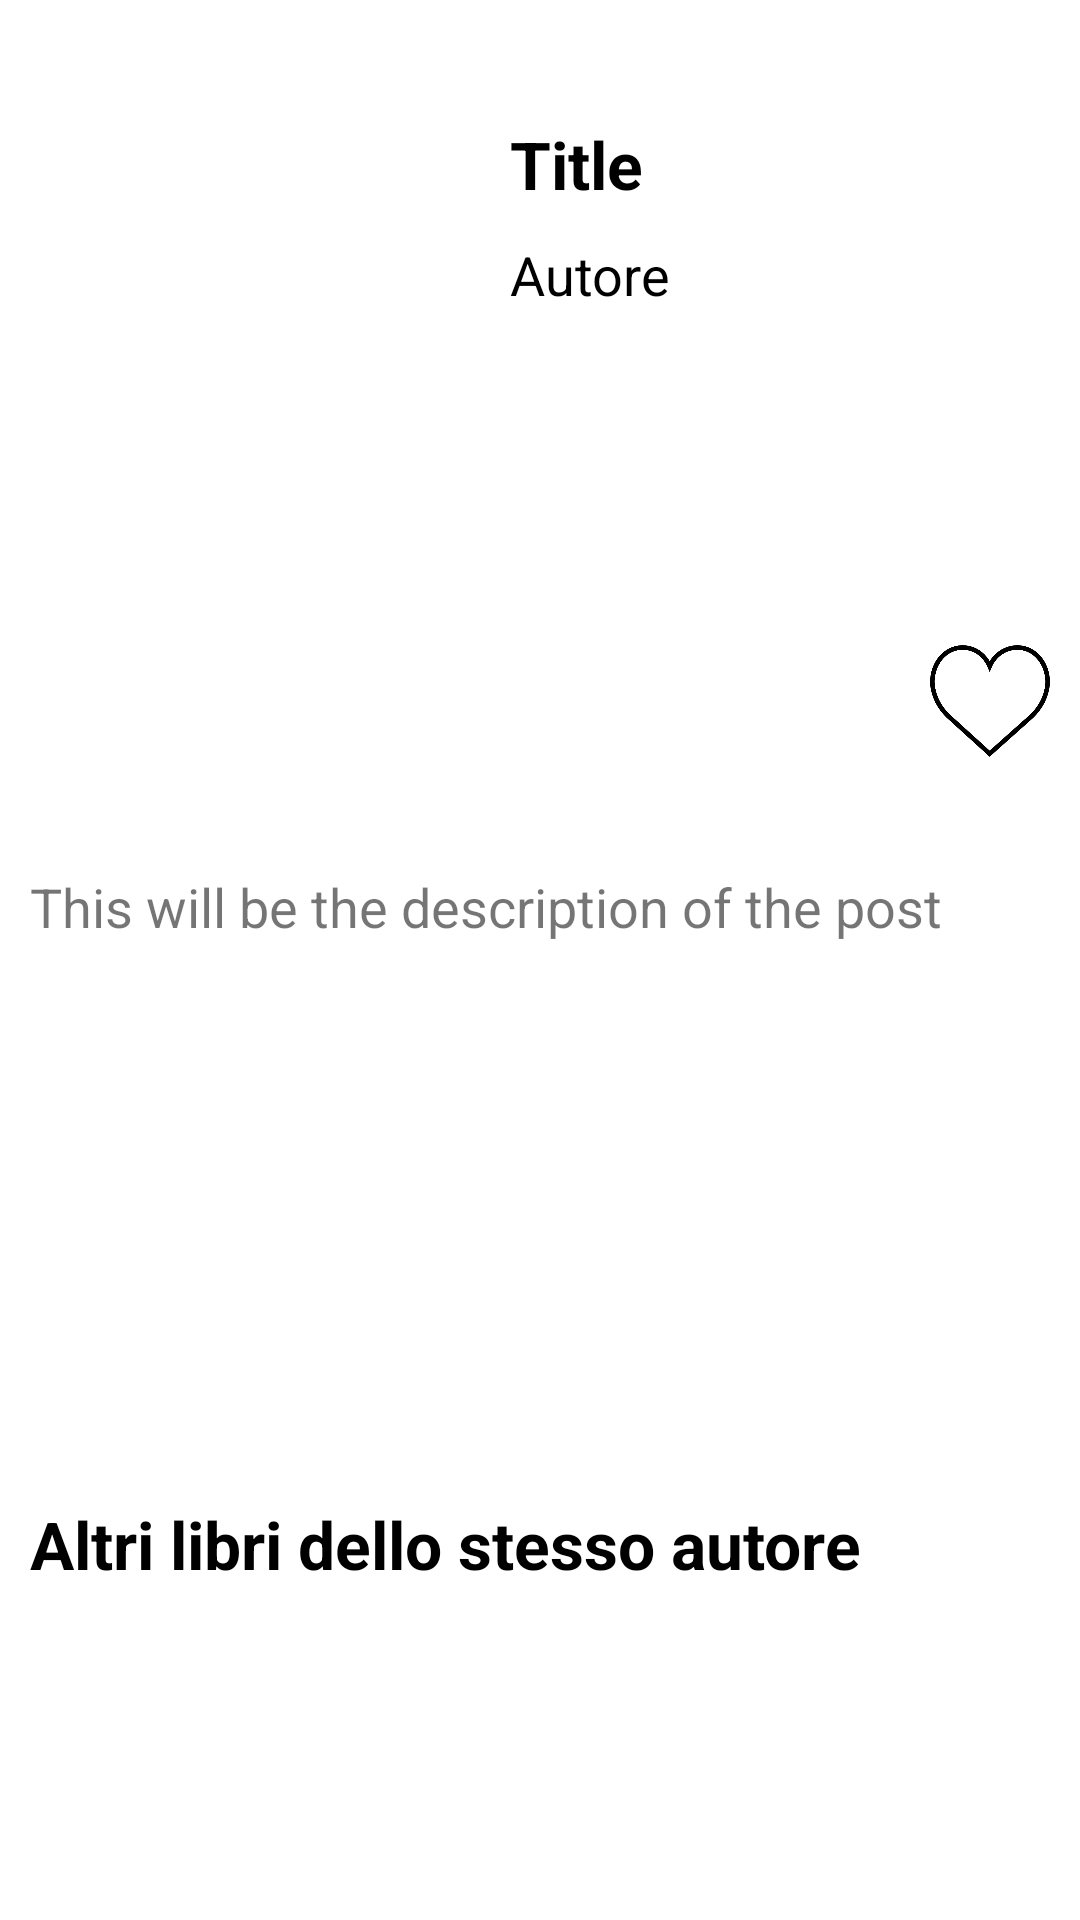

Where to tap for icons on this 1080w x 1920h app screen, as (x=x, y=y):
added not heart: (x=990, y=701)
